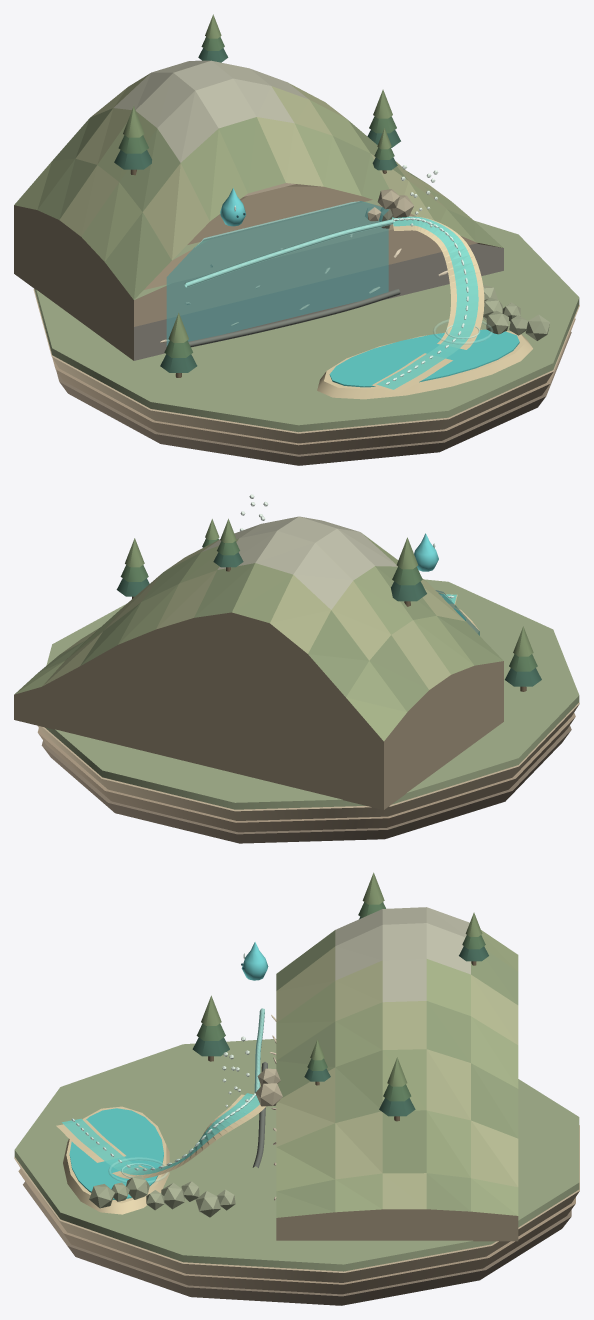
Rendered from huanglong-emergence.glb.
3 renders of one model, top to bottom at view 1: azimuth 30°, elevation 25°; view 2: azimuth 150°, elevation 25°; view 3: azimuth 270°, elevation 25°, orthographic.
Visible parts, largest first — view 1: mountain-cutaway, geological-plinth, emergence-water-volume, emergence-surface-pool, 03 • Mountain aquifer, rising water table and natural spring, alpine-conifer (×5), emergence-spring-water, emergence-underground-seepage-water, water-drop-body; view 2: mountain-cutaway, geological-plinth, alpine-conifer (×4), water-drop-body; view 3: mountain-cutaway, geological-plinth, emergence-surface-pool, 03 • Mountain aquifer, rising water table and natural spring, alpine-conifer (×5), emergence-spring-water, water-drop-body.
Boxes of the visible parts, x1,y1,x2,y2 form: mountain-cutaway: (14, 60, 503, 360); geological-plinth: (33, 200, 579, 465); emergence-water-volume: (166, 201, 388, 346); emergence-surface-pool: (317, 329, 532, 399); 03 • Mountain aquifer, rising water table and natural spring: (188, 189, 550, 393); alpine-conifer (×5): (114, 14, 400, 377); emergence-spring-water: (376, 216, 478, 389); emergence-underground-seepage-water: (184, 219, 393, 287); water-drop-body: (220, 188, 245, 226); mountain-cutaway: (14, 516, 503, 809); geological-plinth: (37, 579, 579, 843); alpine-conifer (×4): (116, 518, 541, 691); water-drop-body: (414, 533, 438, 571); mountain-cutaway: (269, 907, 518, 1241); geological-plinth: (14, 1039, 579, 1305); emergence-surface-pool: (63, 1106, 169, 1214); 03 • Mountain aquifer, rising water table and natural spring: (56, 1062, 282, 1217); alpine-conifer (×5): (192, 872, 488, 1121); emergence-spring-water: (62, 1093, 259, 1175); water-drop-body: (241, 942, 268, 980).
Size of the model in its own units: 9.23 by 5.28 by 9.59.
